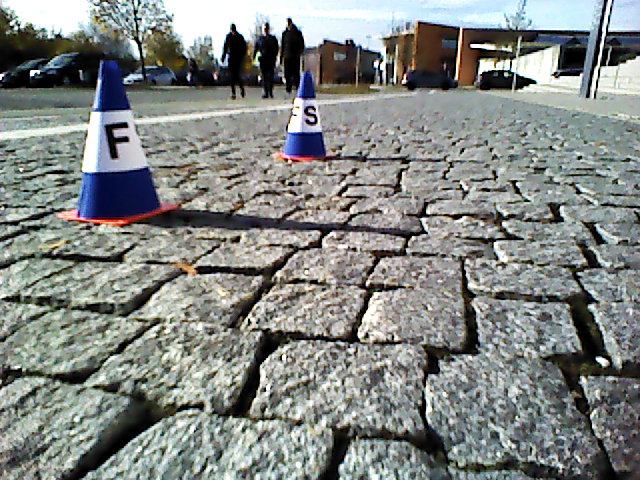bluecone: (79, 60, 159, 212), (286, 72, 325, 156)
